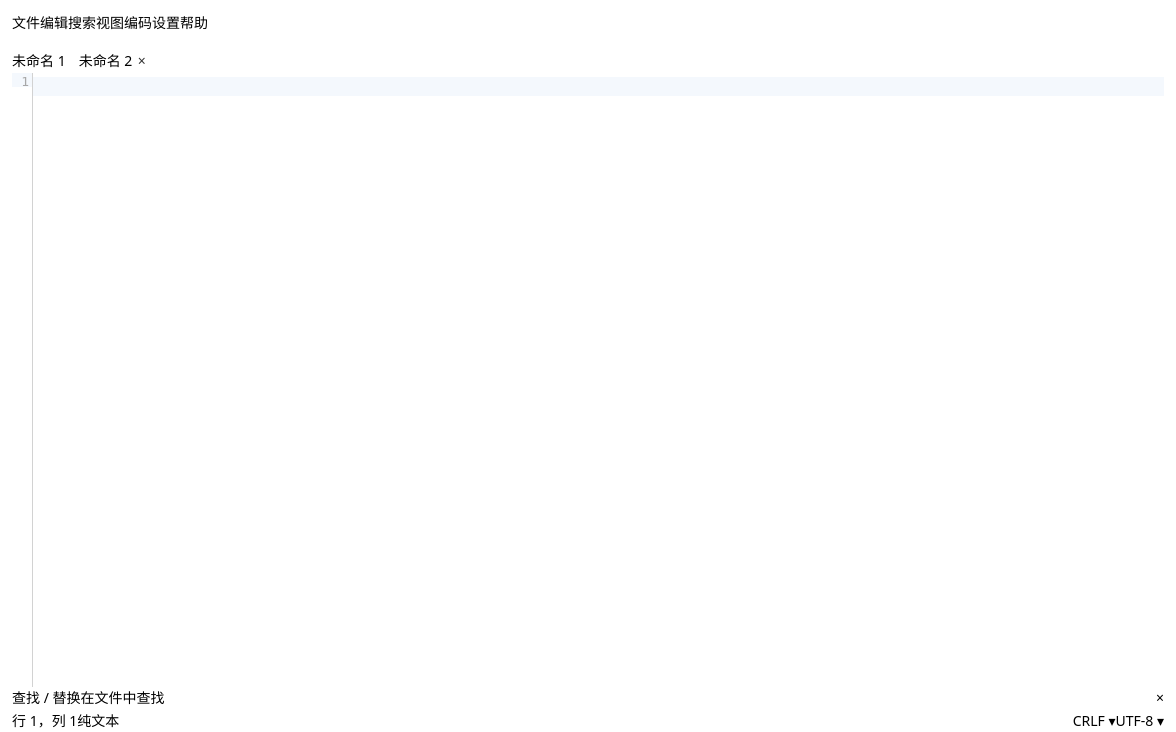
AppShell › 切换标签时把编辑区内容写回上一个标签（R36）
Click the button with class "tab" showing "未命名 1".
click(45, 62)  # box [12, 50, 79, 73]
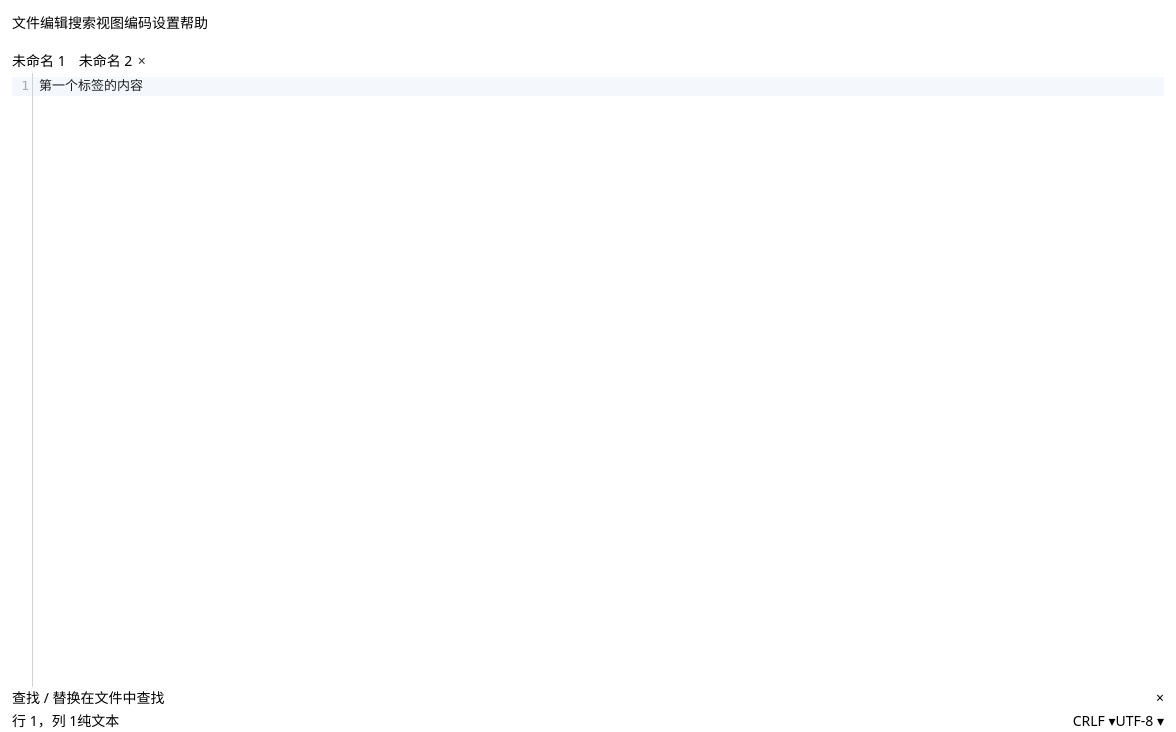
Check: the text box labelled "第一个标签的内容" is shown, box [33, 77, 1164, 96]
